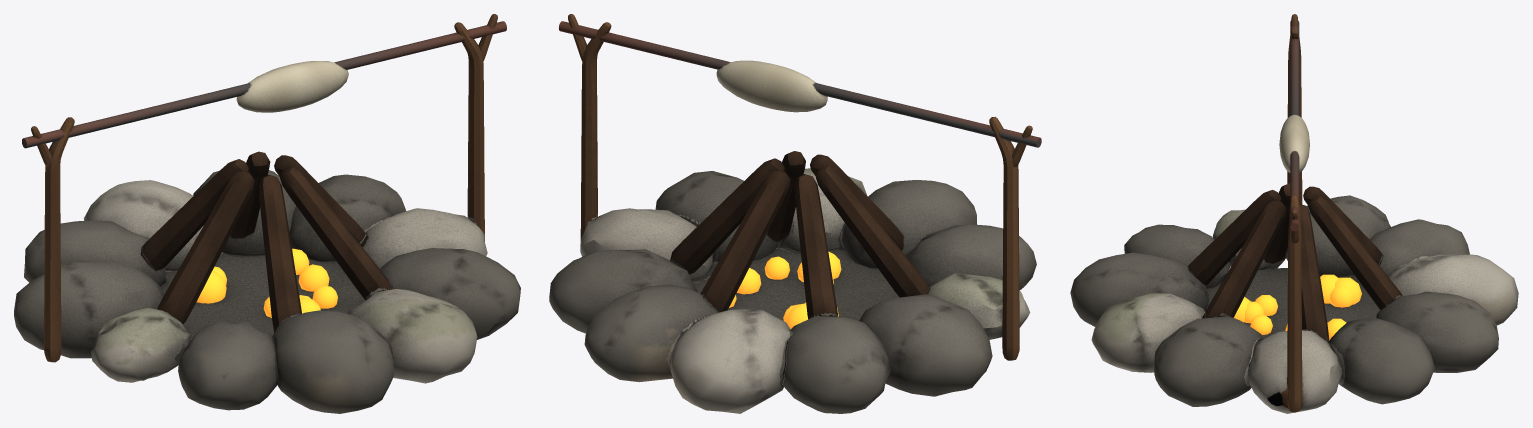
File: cenario_fogueira.glb
3 views of the same model, side by side, from view 1: azimuth 30°, elevation 25°; view 2: azimuth 150°, elevation 25°; view 3: azimuth 270°, elevation 25° (orthographic). The views are drawn at different scales.
Parts seen in each view (by area): view 1: cenario_fogueira; view 2: cenario_fogueira; view 3: cenario_fogueira.
Boxes of the visible parts, left/top/right/bottom form: cenario_fogueira: left=14, top=14, right=520, bottom=413; cenario_fogueira: left=549, top=14, right=1041, bottom=413; cenario_fogueira: left=1070, top=14, right=1518, bottom=413.
Size of the model in its own units: 1.7 by 0.8951 by 1.58.
Materials: 2 (1 with a texture image).
